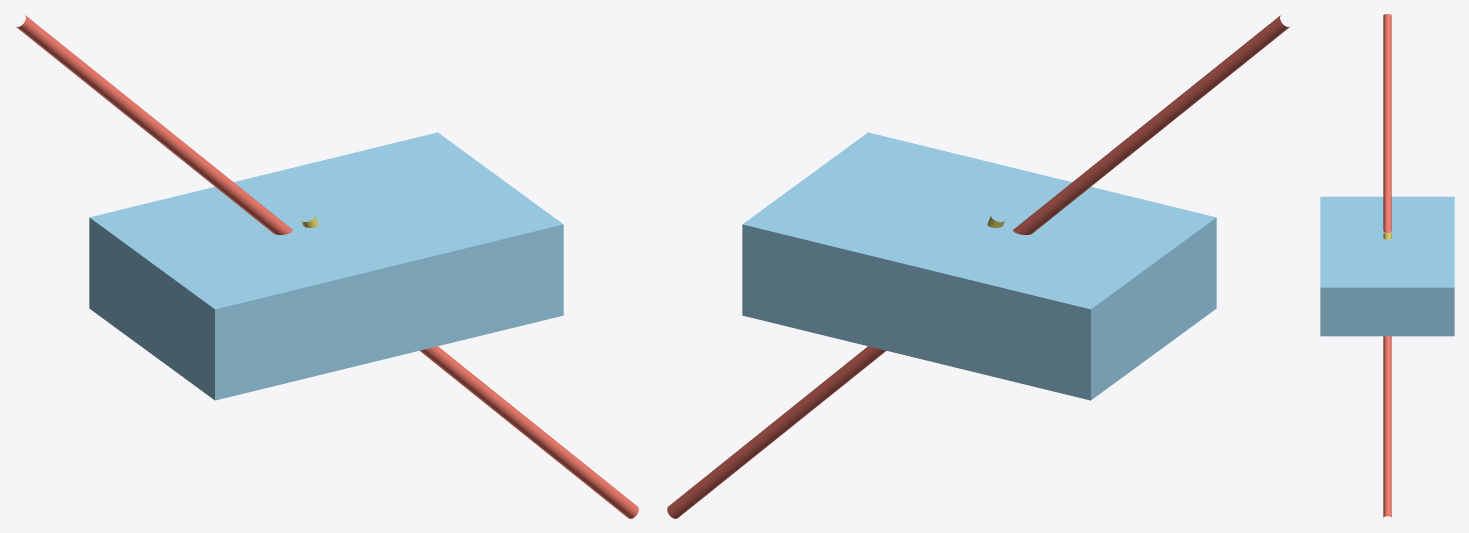
Rendered from snells_law_refraction_glass_slab.glb.
3 renders of one model, left to right at view 1: azimuth 30°, elevation 25°; view 2: azimuth 150°, elevation 25°; view 3: azimuth 270°, elevation 25°, orthographic. The views are drawn at different scales.
Parts seen in each view (by area): view 1: RectangularOpticalGlassSlab, LaserLightRayIncidentBeam, EmergentParallelBeamWithShift; view 2: RectangularOpticalGlassSlab, LaserLightRayIncidentBeam, EmergentParallelBeamWithShift; view 3: RectangularOpticalGlassSlab, LaserLightRayIncidentBeam, EmergentParallelBeamWithShift.
Part boxes in pixels (left/top/right/bottom): RectangularOpticalGlassSlab: left=89, top=132, right=563, bottom=400; LaserLightRayIncidentBeam: left=16, top=15, right=292, bottom=234; EmergentParallelBeamWithShift: left=420, top=346, right=638, bottom=518; RectangularOpticalGlassSlab: left=742, top=132, right=1216, bottom=400; LaserLightRayIncidentBeam: left=1013, top=15, right=1289, bottom=234; EmergentParallelBeamWithShift: left=667, top=346, right=885, bottom=518; RectangularOpticalGlassSlab: left=1320, top=196, right=1454, bottom=336; LaserLightRayIncidentBeam: left=1383, top=14, right=1391, bottom=233; EmergentParallelBeamWithShift: left=1383, top=336, right=1391, bottom=517.
Bounding box in the file's own units: 1.43 × 1.43 × 0.5.
